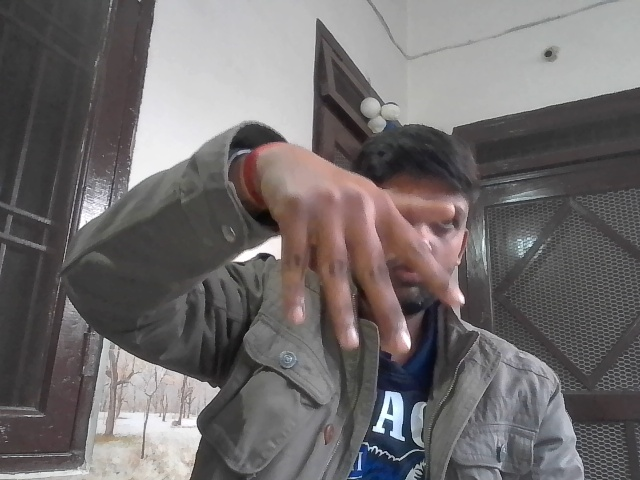HowAreYou: (249, 128, 480, 378)
